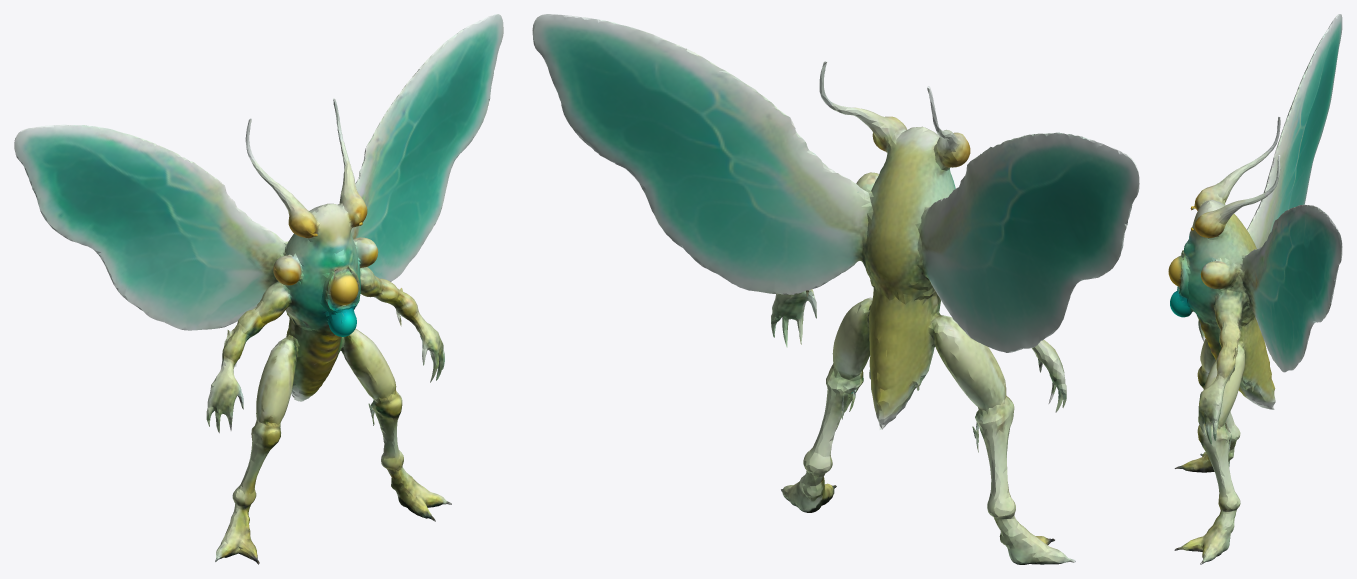
File: antibody_flyer.glb
3 renders of one model, left to right at view 1: azimuth 30°, elevation 25°; view 2: azimuth 150°, elevation 25°; view 3: azimuth 270°, elevation 25°, orthographic. The views are drawn at different scales.
Visible parts, largest first — view 1: AntibodyFlyer; view 2: AntibodyFlyer; view 3: AntibodyFlyer.
Part boxes in pixels (bbox=[...]): AntibodyFlyer: bbox=[14, 14, 503, 564]; AntibodyFlyer: bbox=[532, 14, 1139, 564]; AntibodyFlyer: bbox=[1168, 14, 1342, 564].
Size of the model in its own units: 1.9 by 1.52 by 0.6173.
1 material, 1 textured.
